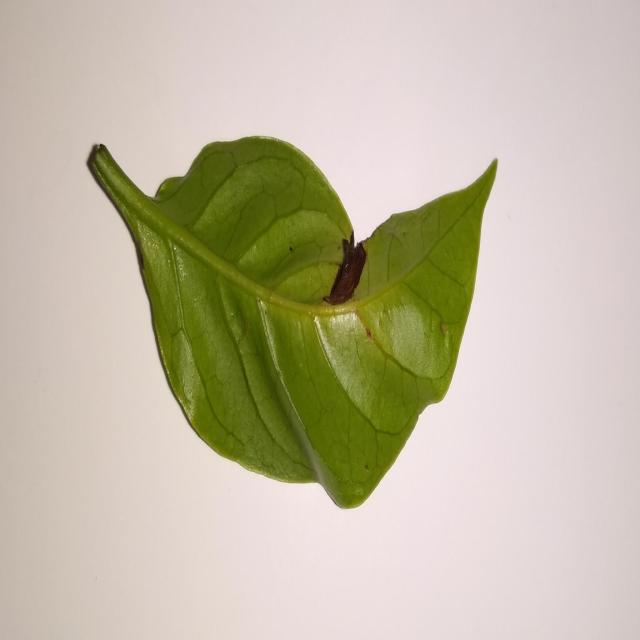phoma: (322, 231, 366, 306)
